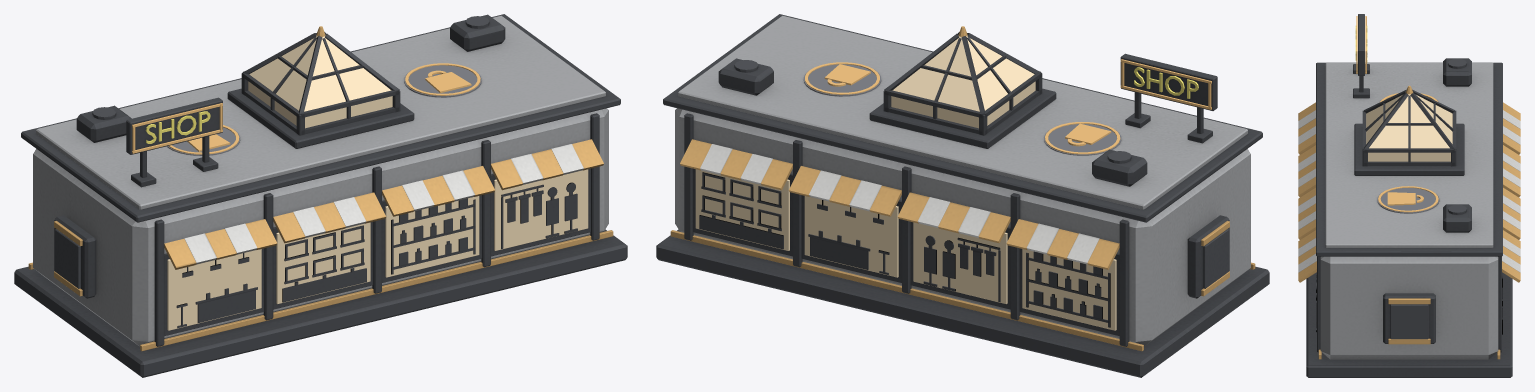
Rendered from SM_Commerce.fbx.
The picture shows the model from 3 angles, left to right: view 1: azimuth 30°, elevation 25°; view 2: azimuth 150°, elevation 25°; view 3: azimuth 270°, elevation 25°; orthographic projection. The views are drawn at different scales.
Visible parts, largest first — view 1: SMN_Commerce, CommerceWindows, Emblem_Commerce, Emblem_CommerceSign, Emblem_Commerce_b; view 2: SMN_Commerce, CommerceWindows, Emblem_Commerce, Emblem_Commerce_b, Emblem_CommerceSign; view 3: SMN_Commerce, CommerceWindows, Emblem_Commerce, Emblem_CommerceSign.
Part boxes in pixels (left/top/right/bottom): SMN_Commerce: left=14, top=14, right=627, bottom=377; CommerceWindows: left=167, top=35, right=588, bottom=330; Emblem_Commerce: left=404, top=63, right=481, bottom=97; Emblem_CommerceSign: left=132, top=103, right=222, bottom=153; Emblem_Commerce_b: left=167, top=125, right=240, bottom=155; SMN_Commerce: left=656, top=14, right=1269, bottom=377; CommerceWindows: left=695, top=35, right=1116, bottom=330; Emblem_Commerce: left=803, top=62, right=881, bottom=96; Emblem_Commerce_b: left=1044, top=122, right=1121, bottom=155; Emblem_CommerceSign: left=1120, top=59, right=1211, bottom=109; SMN_Commerce: left=1298, top=14, right=1520, bottom=377; CommerceWindows: left=1366, top=94, right=1452, bottom=161; Emblem_Commerce: left=1377, top=186, right=1439, bottom=213; Emblem_CommerceSign: left=1355, top=16, right=1367, bottom=73.
Size of the model in its own units: 1.96 by 0.907 by 0.9267.
